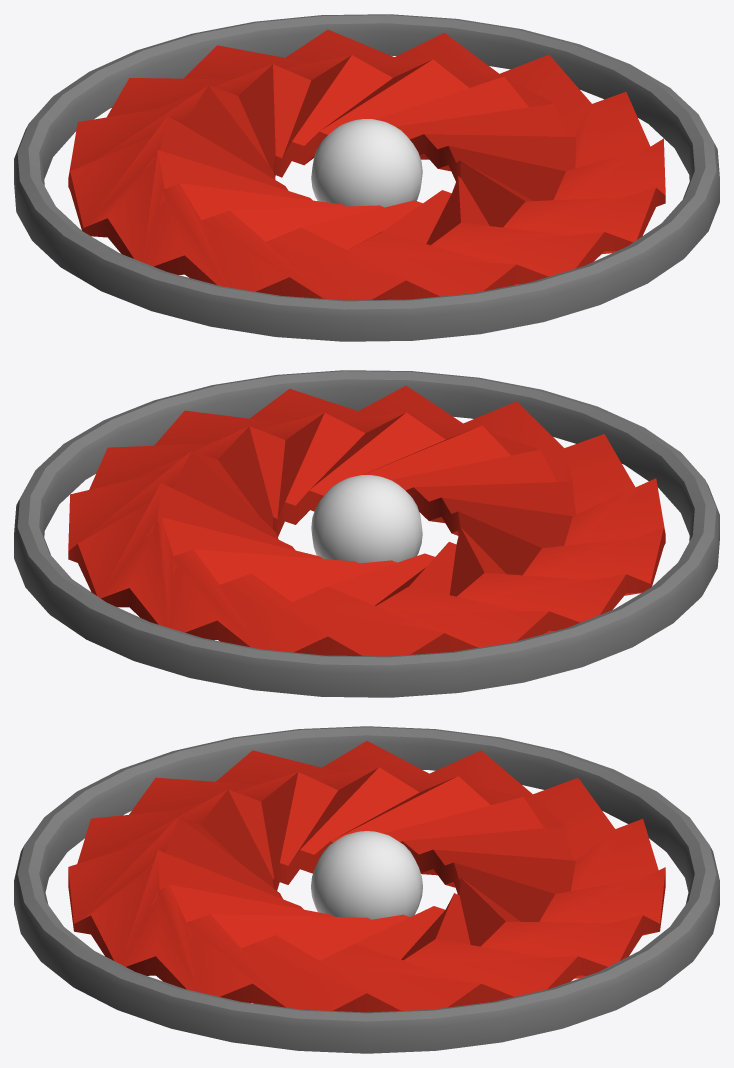
Rendered from outPortal.fbx.
The picture shows the model from 3 angles, top to bottom: view 1: azimuth 30°, elevation 25°; view 2: azimuth 150°, elevation 25°; view 3: azimuth 270°, elevation 25°; orthographic projection.
Visible parts, largest first — view 1: outPortal; view 2: outPortal; view 3: outPortal.
Part boxes in pixels (box(x1,y1,x2,y2)): outPortal: box(14, 14, 719, 341); outPortal: box(14, 370, 719, 697); outPortal: box(14, 726, 719, 1053).
Bounding box in the file's own units: 152 × 24.23 × 152.
